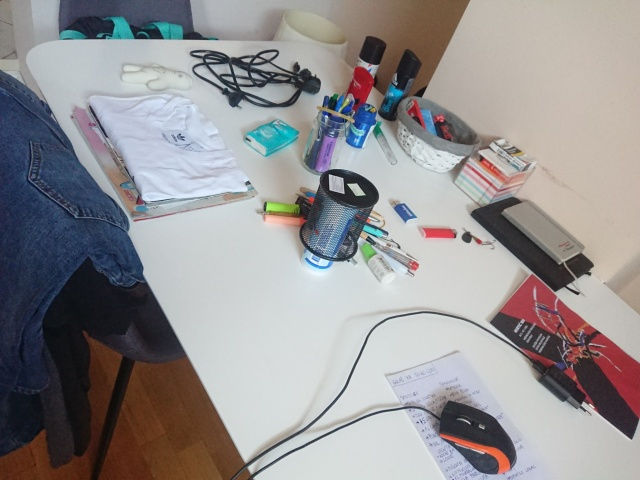Solana Pag Fine Sea Salt 250g: (298, 177, 367, 273)
